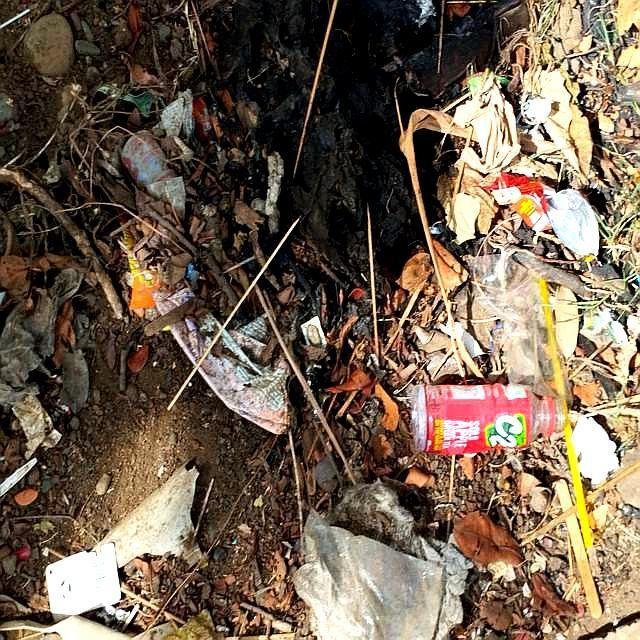Non-biodegradable: (296, 510, 445, 640), (413, 386, 568, 456)
